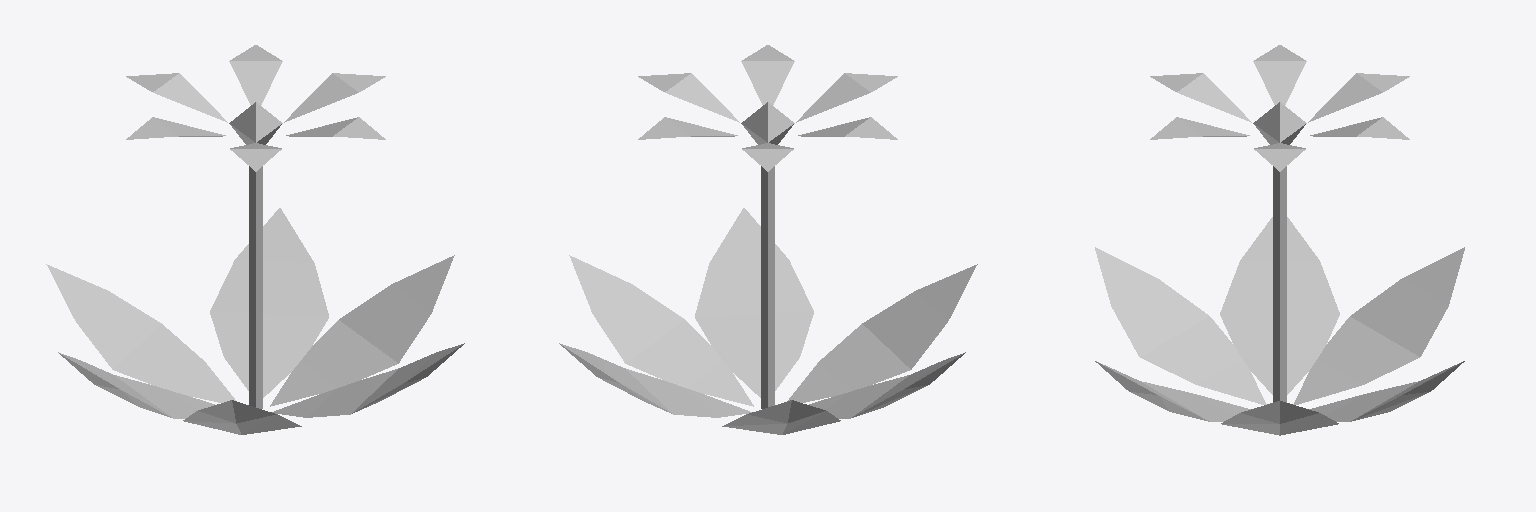
The model's file is hepatica_0005.obj.
3 views of the same model, side by side, from view 1: azimuth 30°, elevation 25°; view 2: azimuth 150°, elevation 25°; view 3: azimuth 270°, elevation 25° (orthographic).
Parts seen in each view (by area): view 1: hepatica_0005; view 2: hepatica_0005; view 3: hepatica_0005.
Boxes of the visible parts, <box> form: hepatica_0005: <box>46,45,464,434</box>; hepatica_0005: <box>559,45,977,434</box>; hepatica_0005: <box>1095,45,1464,435</box>.
Bounding box in the file's own units: 2.97 × 2.2 × 2.4.